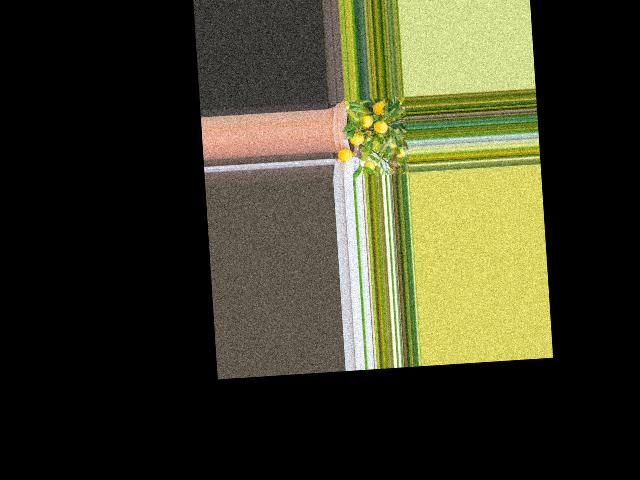lemon: (360, 159, 376, 171)
